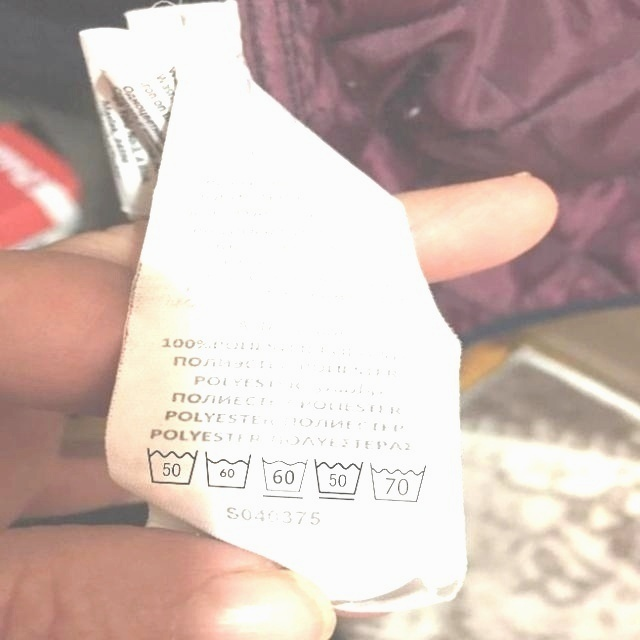50C: (140, 440, 202, 490), (311, 455, 367, 504)
60C: (259, 452, 312, 500), (202, 448, 256, 494)
70C: (369, 460, 433, 505)
